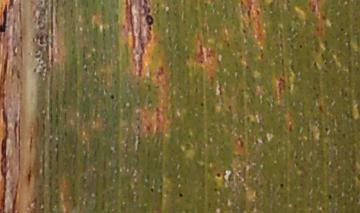tarspot: (1, 3, 9, 33), (144, 14, 155, 30), (7, 1, 15, 9), (240, 26, 248, 34), (226, 103, 233, 112), (327, 193, 334, 201), (323, 126, 329, 135), (148, 186, 155, 193), (215, 171, 221, 178), (340, 132, 347, 138), (279, 182, 285, 188), (110, 93, 115, 100), (146, 6, 151, 13), (178, 191, 183, 198), (298, 42, 303, 49), (141, 1, 151, 4), (199, 102, 205, 107), (339, 26, 344, 32)
